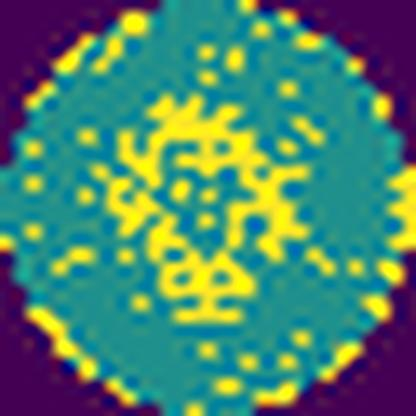Donut: (91, 86, 321, 330)
